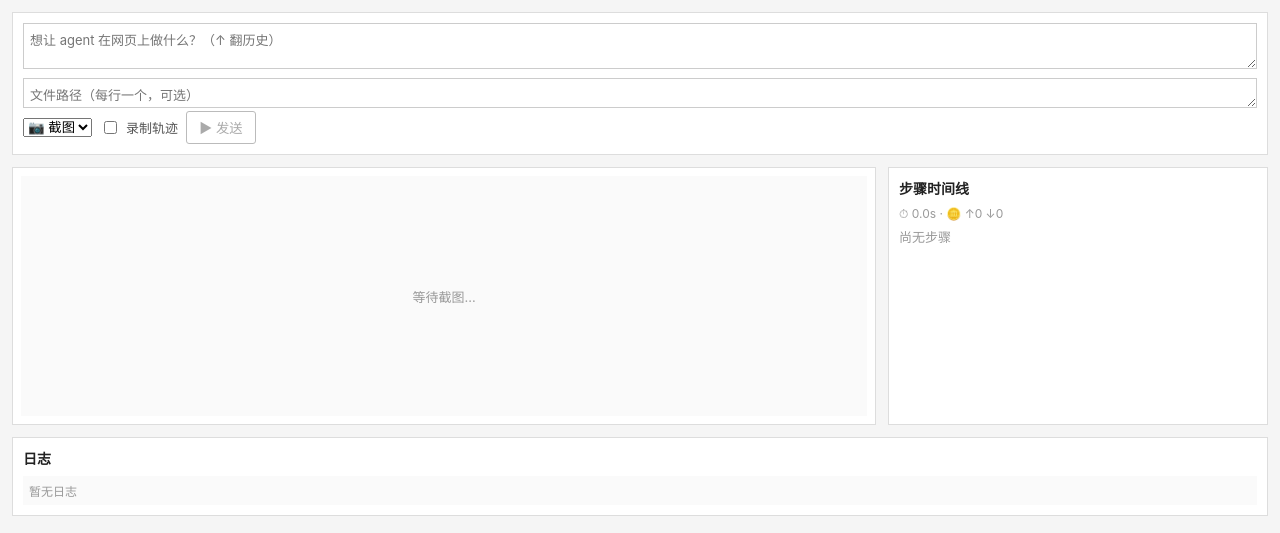
Scenario: RunView (P6 M3) › SSE done 后显示新任务按钮
The width and height of the screenshot is (1280, 533).
Type "x" into the text box with placeholder "想让 agent 在网页上做什么？（↑ 翻历史）".
click(640, 46); type("x")  # box [23,23,1257,69]
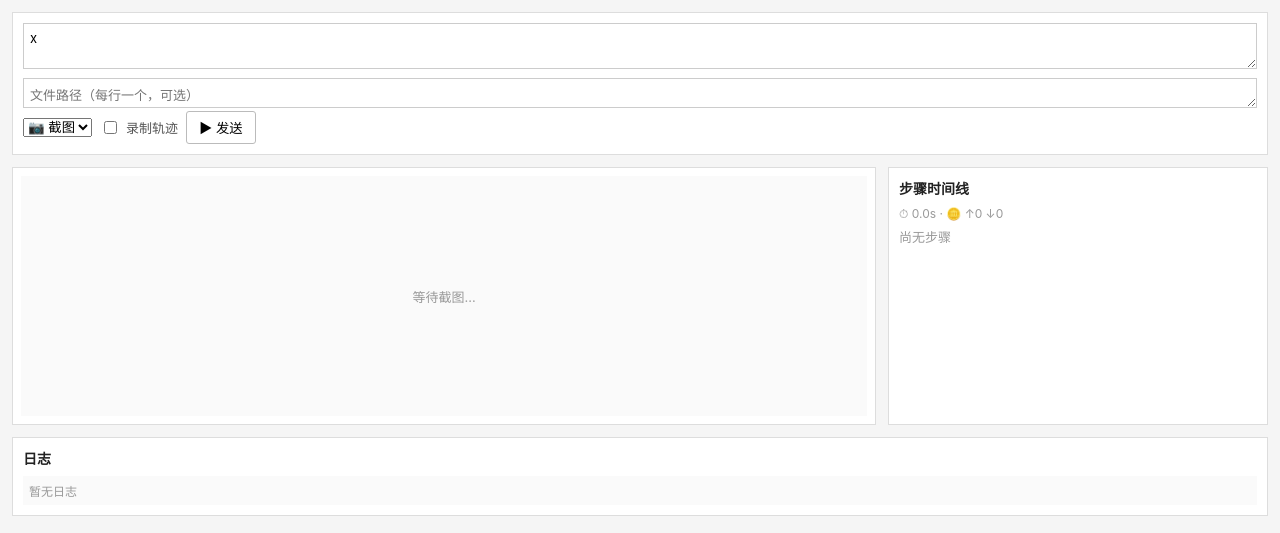
Click the button "▶ 发送".
click(221, 128)  # box [186,111,256,144]
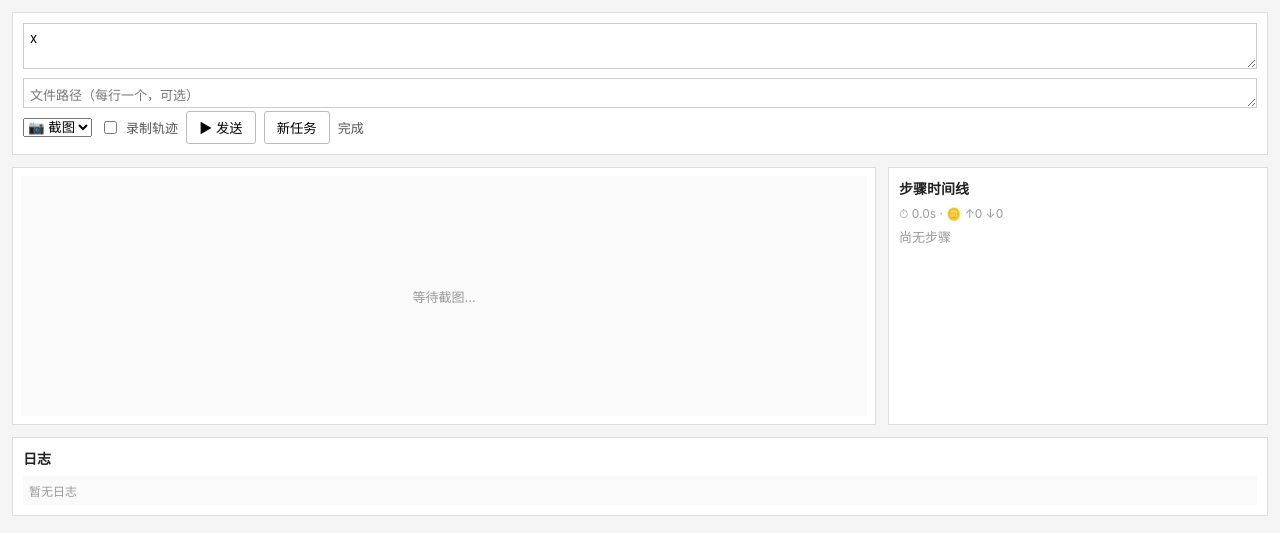
Now the button "新任务" is shown, box [264,111,330,144]
